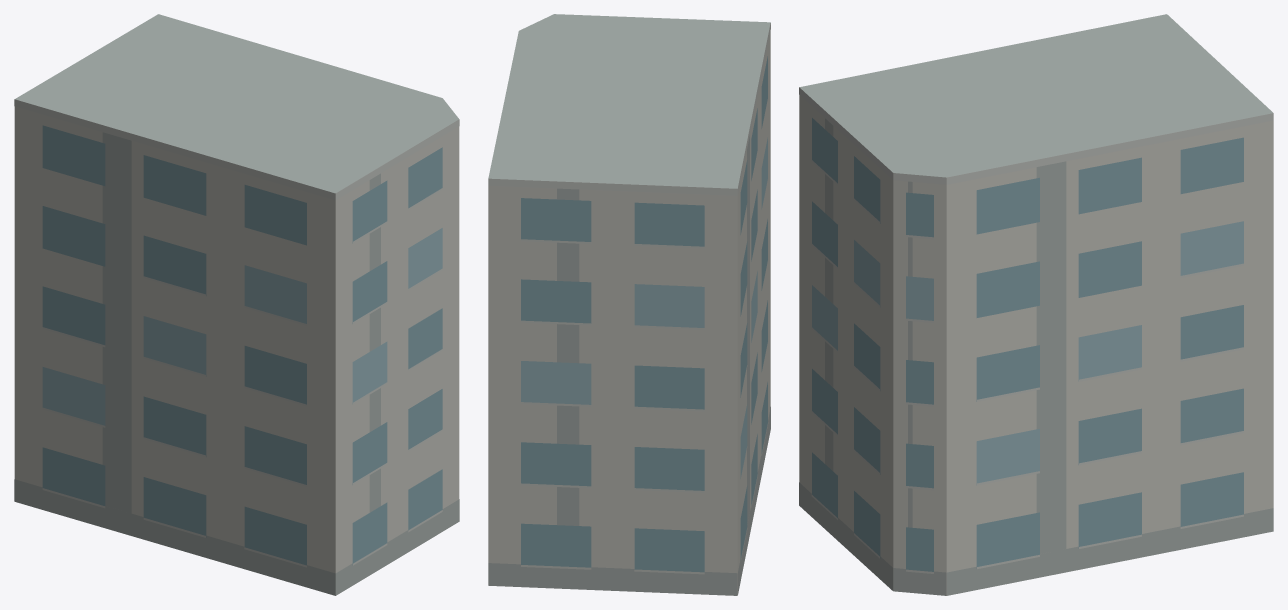
The model's file is survey-upis-32799927.glb.
3 views of the same model, side by side, from view 1: azimuth 30°, elevation 25°; view 2: azimuth 150°, elevation 25°; view 3: azimuth 270°, elevation 25° (orthographic). The views are drawn at different scales.
Parts seen in each view (by area): view 1: survey-upis-32799927.tmp; view 2: survey-upis-32799927.tmp; view 3: survey-upis-32799927.tmp.
Boxes of the visible parts, x1=… form: survey-upis-32799927.tmp: x1=14, y1=14, x2=459, y2=595; survey-upis-32799927.tmp: x1=488, y1=14, x2=770, y2=595; survey-upis-32799927.tmp: x1=799, y1=14, x2=1273, y2=595.
Bounding box in the file's own units: 11.66 × 13.9 × 14.3.
